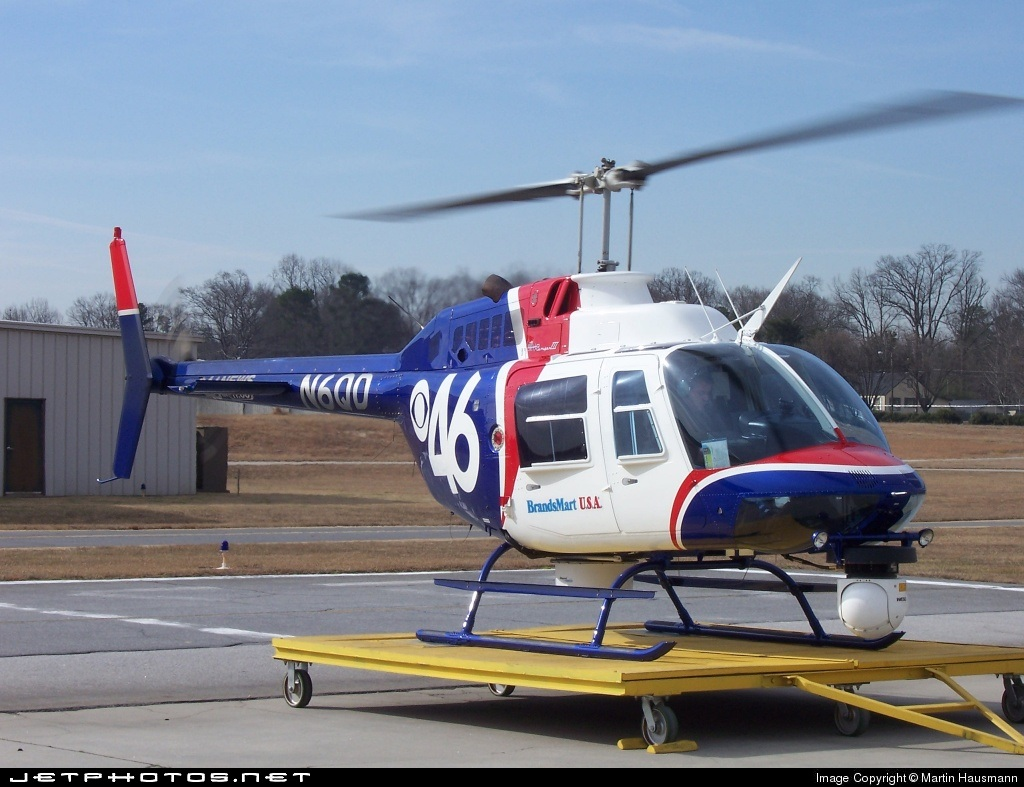number: (294, 364, 376, 415)
